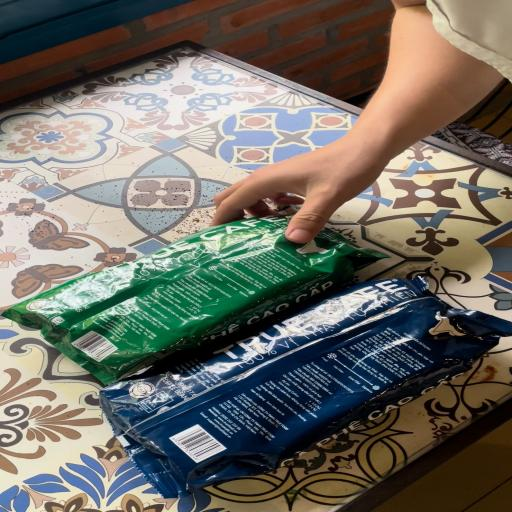cafe_hat: (100, 277, 512, 498)
cafe_xay: (3, 215, 386, 385)
